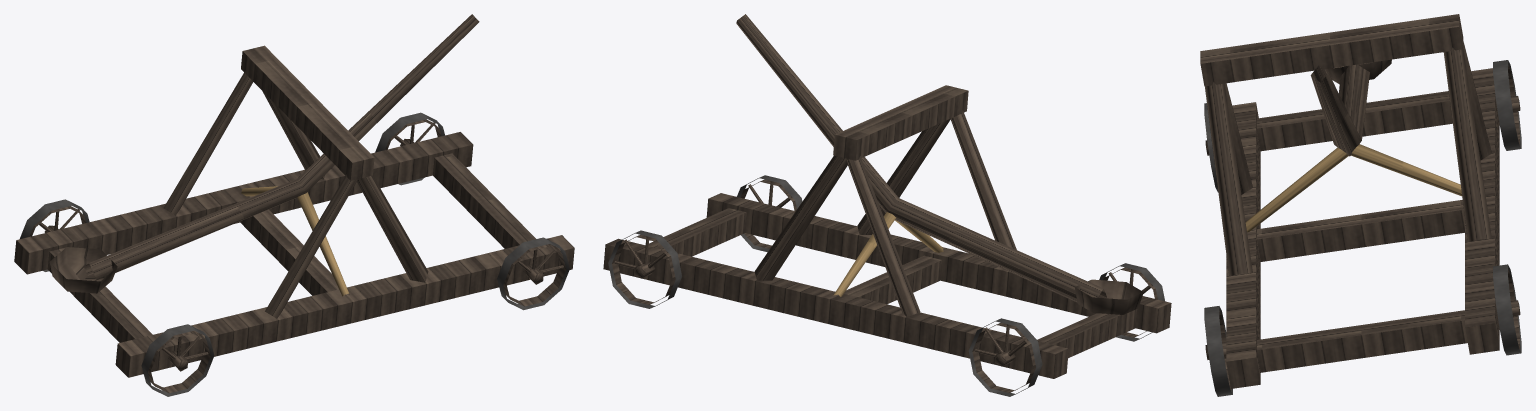
The model's file is Catapult_Burnt_1_LOD1.gltf.
3 views of the same model, side by side, from view 1: azimuth 30°, elevation 25°; view 2: azimuth 150°, elevation 25°; view 3: azimuth 270°, elevation 25° (orthographic). The views are drawn at different scales.
Visible parts, largest first — view 1: Catapult_Burnt_1_LOD1; view 2: Catapult_Burnt_1_LOD1; view 3: Catapult_Burnt_1_LOD1.
Part boxes in pixels (bbox=[...]): Catapult_Burnt_1_LOD1: bbox=[14, 14, 574, 396]; Catapult_Burnt_1_LOD1: bbox=[603, 14, 1171, 396]; Catapult_Burnt_1_LOD1: bbox=[1200, 14, 1521, 396].
Size of the model in its own units: 6.25 by 3.45 by 3.19.
3 materials, 3 textured.
